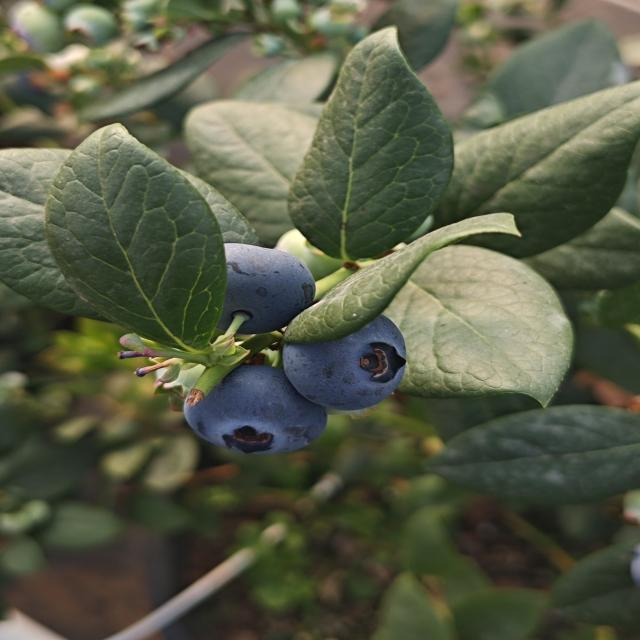ripe: (178, 350, 332, 461), (278, 306, 418, 412), (192, 234, 327, 336)
